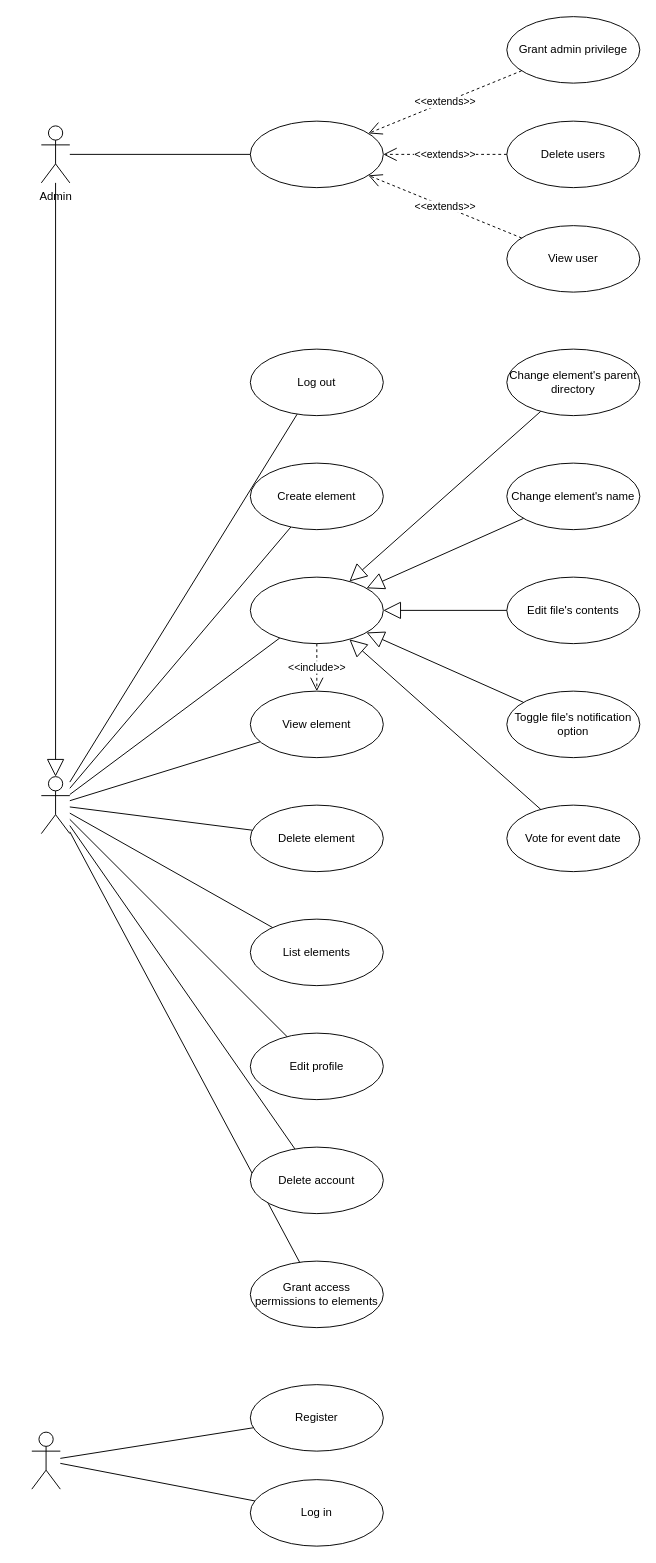
The diagram is 656 pixels wide and 1563 high, and some of its shapes have lost their labels. The centre of each missing label's shape, as x and y in pixels:
"Anonymous" belongs at pixel 45 1460.
"Edit element" belongs at pixel 316 610.
"List users" belongs at pixel 316 154.
"User" belongs at pixel 55 805.
